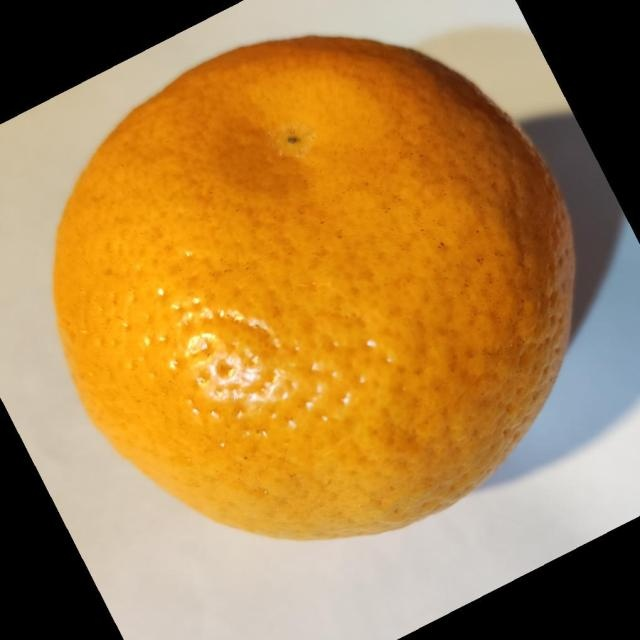agrume: (51, 34, 577, 542)
